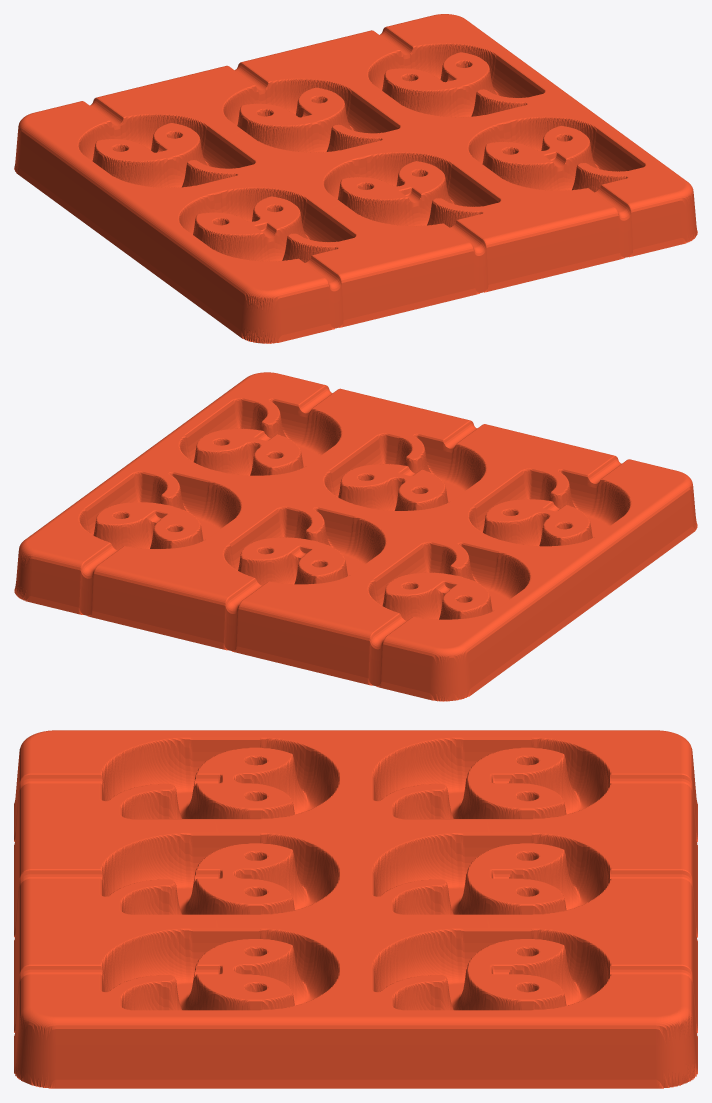
File: mold.glb
3 views of the same model, one above another, from view 1: azimuth 30°, elevation 25°; view 2: azimuth 150°, elevation 25°; view 3: azimuth 270°, elevation 25° (orthographic). The views are drawn at different scales.
Parts seen in each view (by area): view 1: geometry_0; view 2: geometry_0; view 3: geometry_0.
Boxes of the visible parts, x1,y1,x2,y2 form: geometry_0: (14,14,697,343); geometry_0: (14,372,697,701); geometry_0: (14,730,697,1088).
Size of the model in its own units: 0.1529 by 0.0155 by 0.1477.
